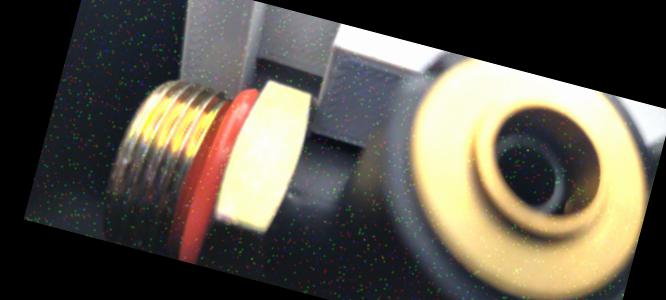bump: (416, 53, 448, 88)
joint line: (306, 189, 341, 209)
white mark: (282, 188, 305, 209)
